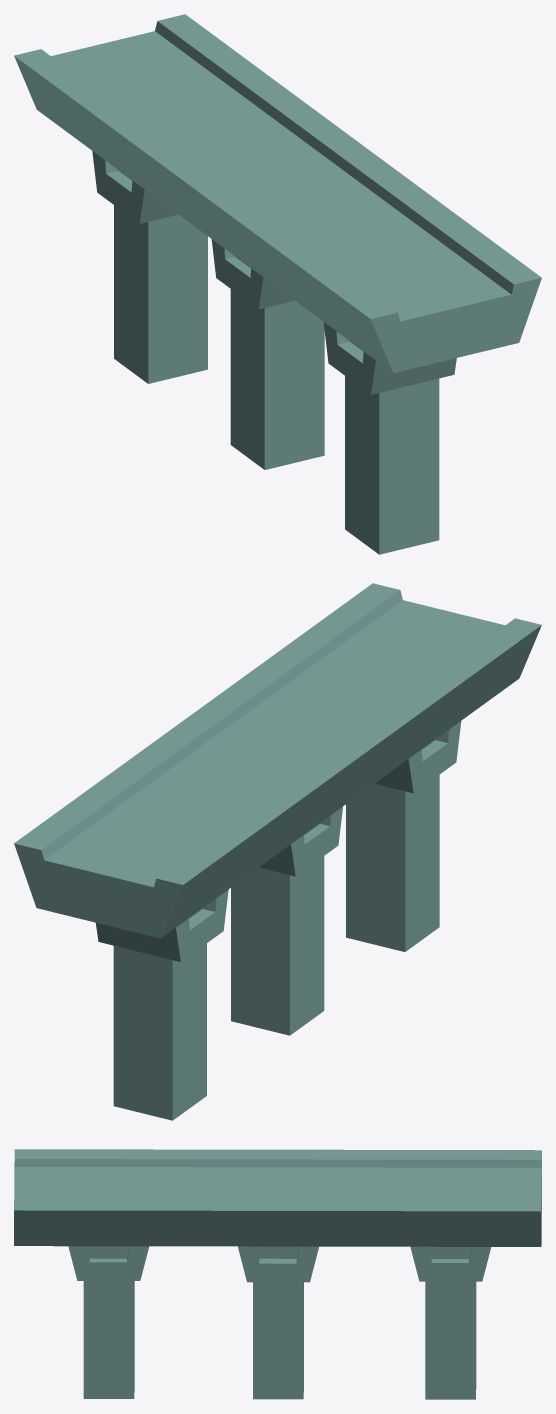
File: street straight large.fbx
The picture shows the model from 3 angles, top to bottom: view 1: azimuth 30°, elevation 25°; view 2: azimuth 150°, elevation 25°; view 3: azimuth 270°, elevation 25°; orthographic projection. The views are drawn at different scales.
Parts seen in each view (by area): view 1: street straight large; view 2: street straight large; view 3: street straight large.
Part boxes in pixels (x1,y1,x2,y2): street straight large: (14,14,541,554); street straight large: (14,583,541,1120); street straight large: (14,1149,541,1399).
Bounding box in the file's own units: 1451 × 2268 × 5209.
